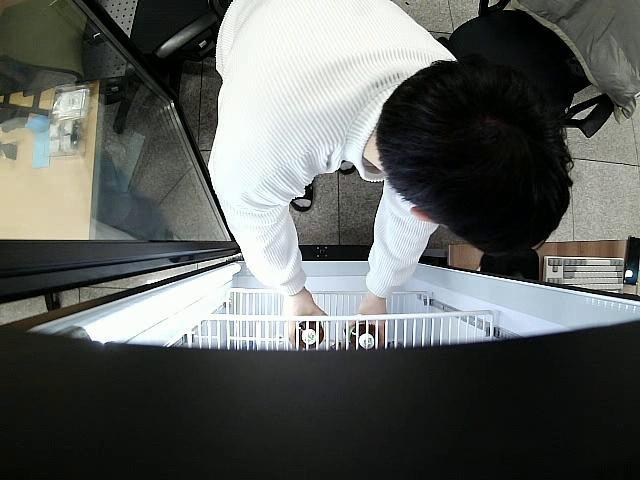19_17cha: (345, 316, 378, 348), (296, 320, 325, 350)
